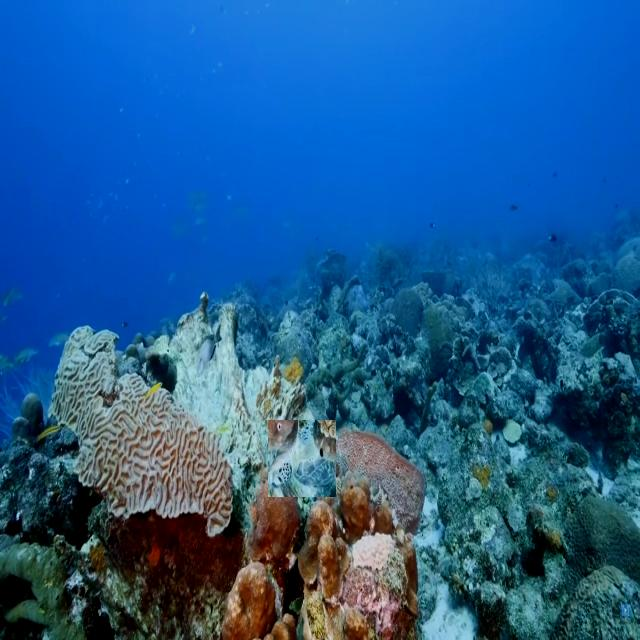Sea turtle: (268, 420, 336, 497)
